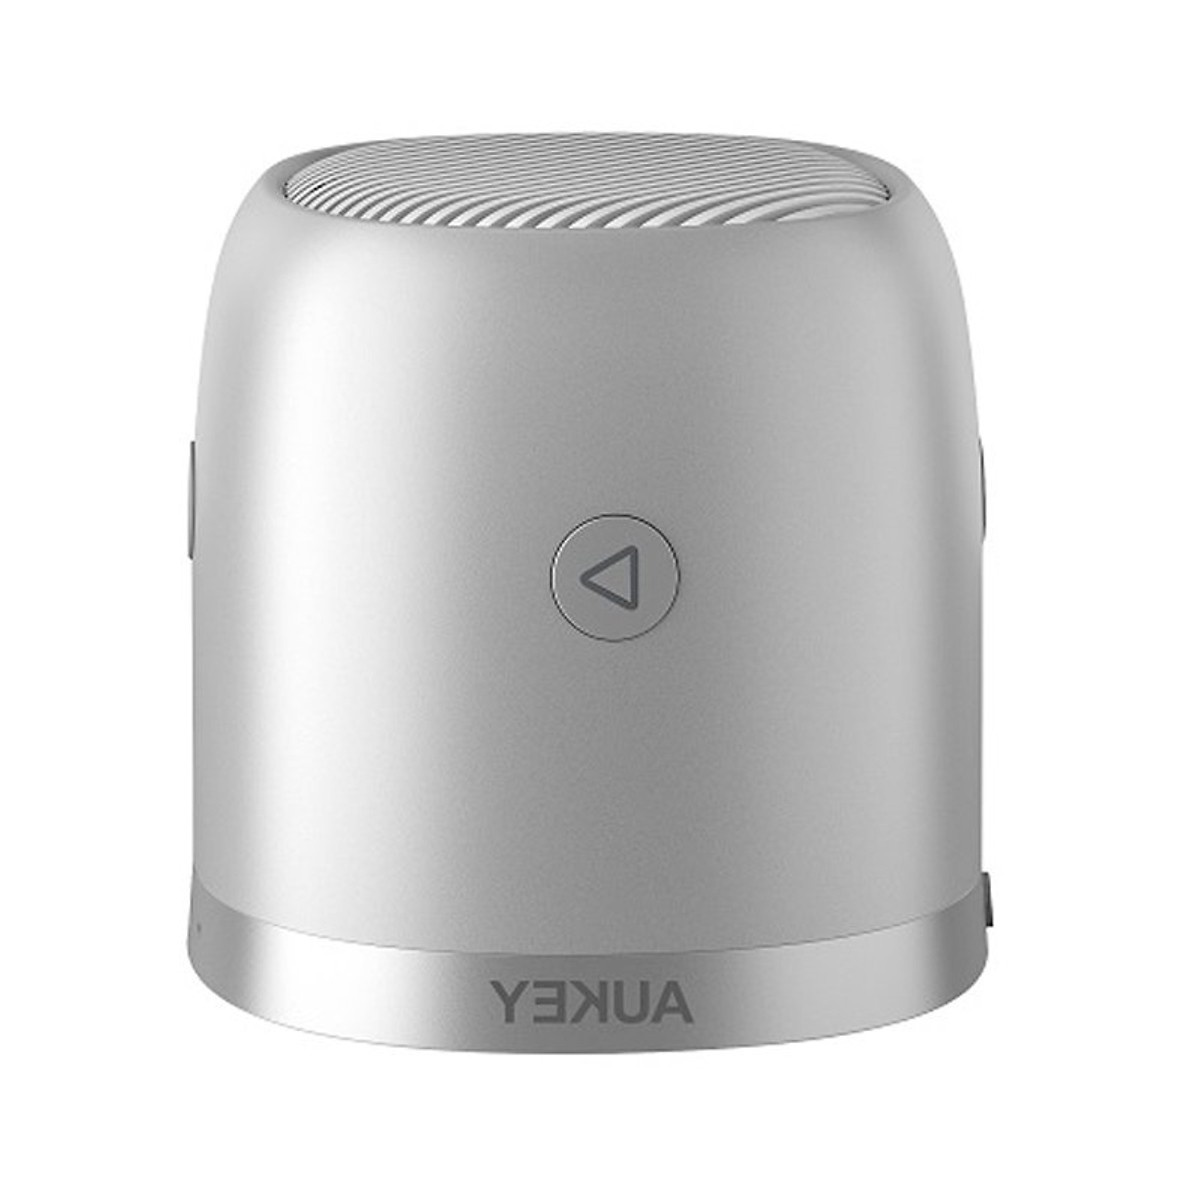Aukey: (274, 890, 793, 1184)
